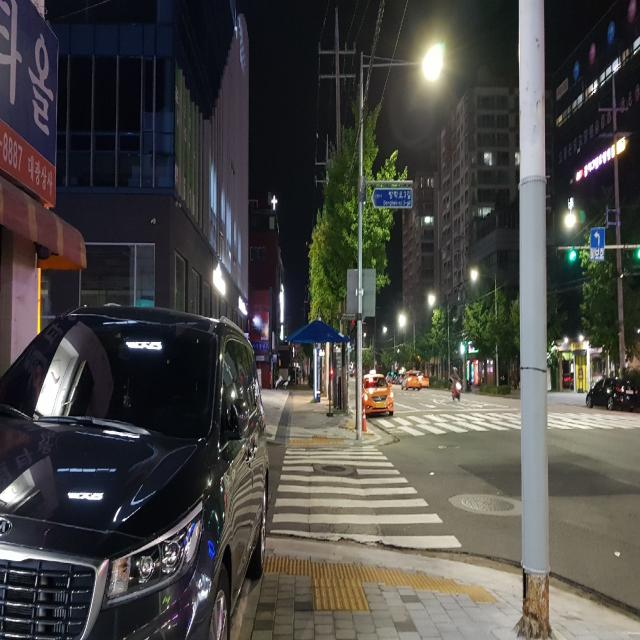횡단보도: (270, 447, 462, 548), (375, 414, 640, 431)
